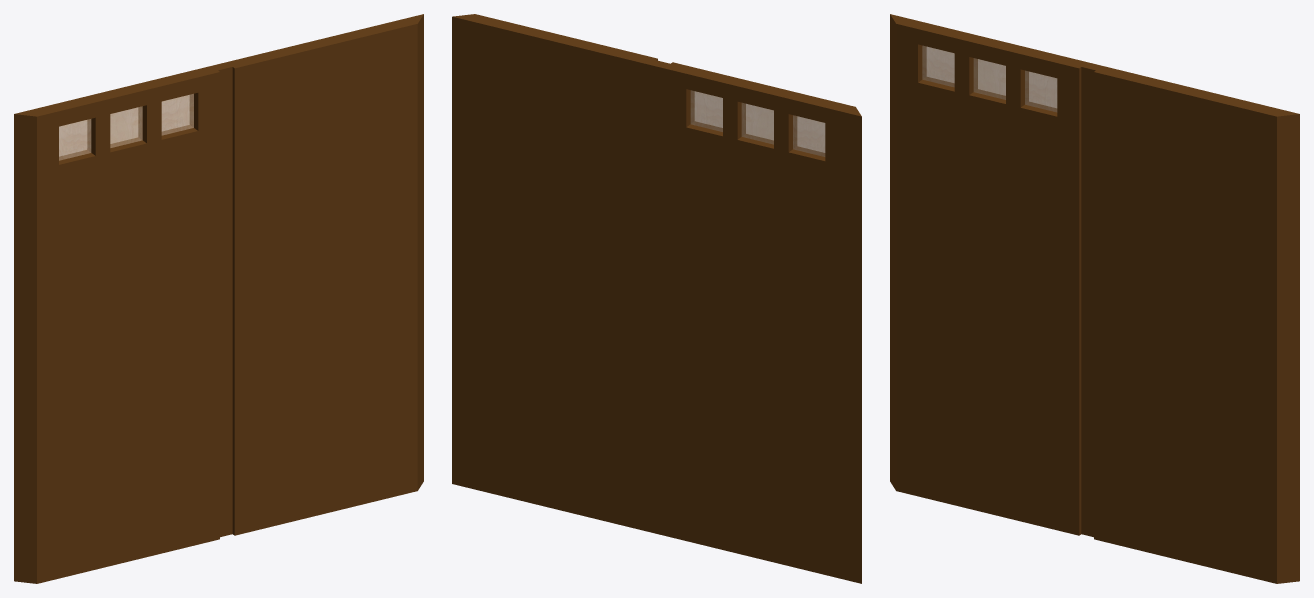
Rendered from original-8.obj.
The picture shows the model from 3 angles, left to right: view 1: azimuth 30°, elevation 25°; view 2: azimuth 150°, elevation 25°; view 3: azimuth 330°, elevation 25°; orthographic projection.
Visible parts, largest first — view 1: Component_77_1/Component_77/mesh30/mesh30-geometry#mesh30-geomet; view 2: Component_77_1/Component_77/mesh30/mesh30-geometry#mesh30-geomet; view 3: Component_77_1/Component_77/mesh30/mesh30-geometry#mesh30-geomet.
Boxes of the visible parts, x1,y1,x2,y2 form: Component_77_1/Component_77/mesh30/mesh30-geometry#mesh30-geomet: [14, 14, 423, 583]; Component_77_1/Component_77/mesh30/mesh30-geometry#mesh30-geomet: [452, 14, 861, 583]; Component_77_1/Component_77/mesh30/mesh30-geometry#mesh30-geomet: [890, 14, 1299, 583].
Size of the model in its own units: 0.5881 by 0.6406 by 0.021.
